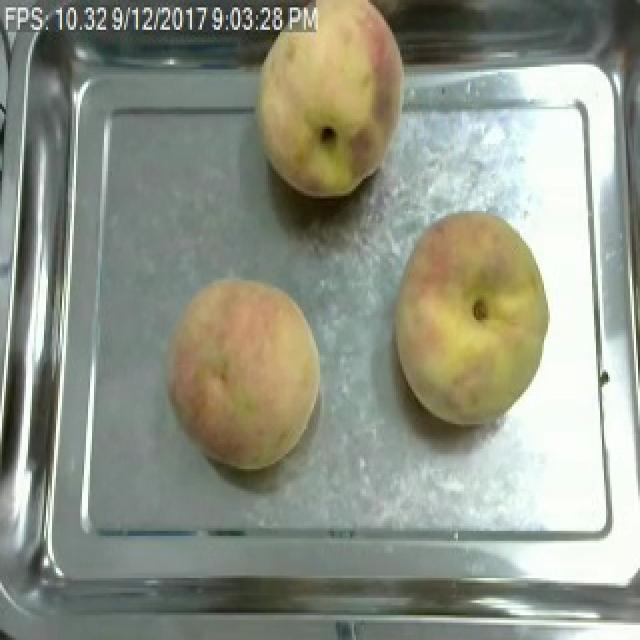Fruit: (384, 206, 558, 432), (158, 270, 330, 474), (246, 2, 414, 206)
